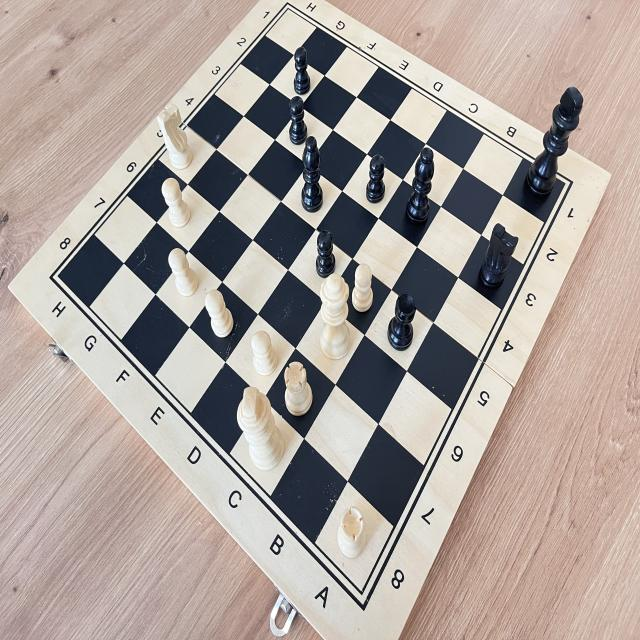black-bishop: (402, 141, 439, 238), (294, 133, 330, 218)
black-king: (516, 82, 587, 215)
black-knight: (474, 219, 521, 297)
black-pawn: (310, 224, 341, 285), (286, 40, 317, 101), (362, 150, 388, 211), (282, 93, 310, 147)
black-rook: (382, 286, 424, 356)
white-bishop: (152, 100, 196, 174)
white-king: (230, 379, 290, 477)
white-pawn: (200, 284, 238, 340), (158, 173, 194, 231), (165, 245, 202, 301), (347, 258, 377, 319), (248, 325, 280, 381)
white-queen: (312, 267, 354, 365)
white-rook: (276, 354, 318, 424), (332, 496, 372, 565)
